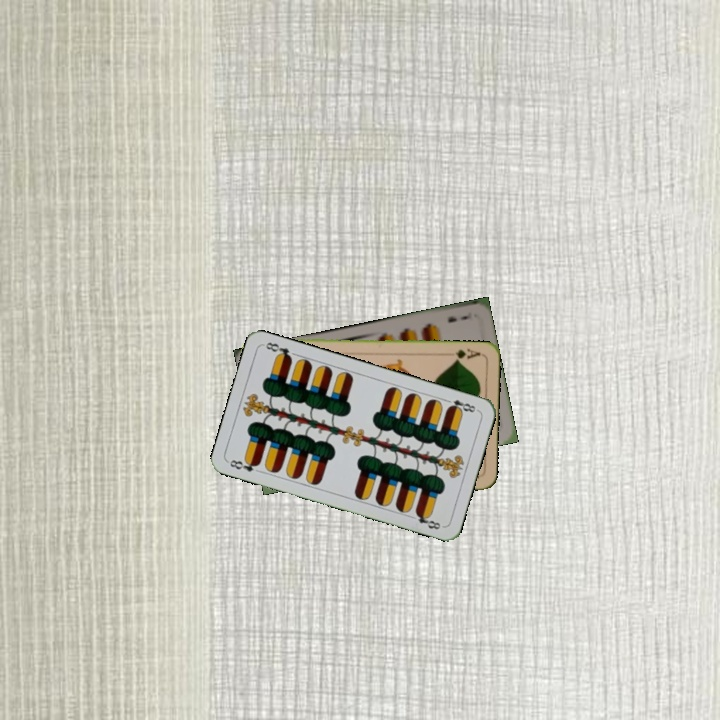E7: (444, 308, 475, 326)
E8: (441, 395, 480, 415), (226, 455, 262, 474)
GA: (451, 344, 483, 364)
